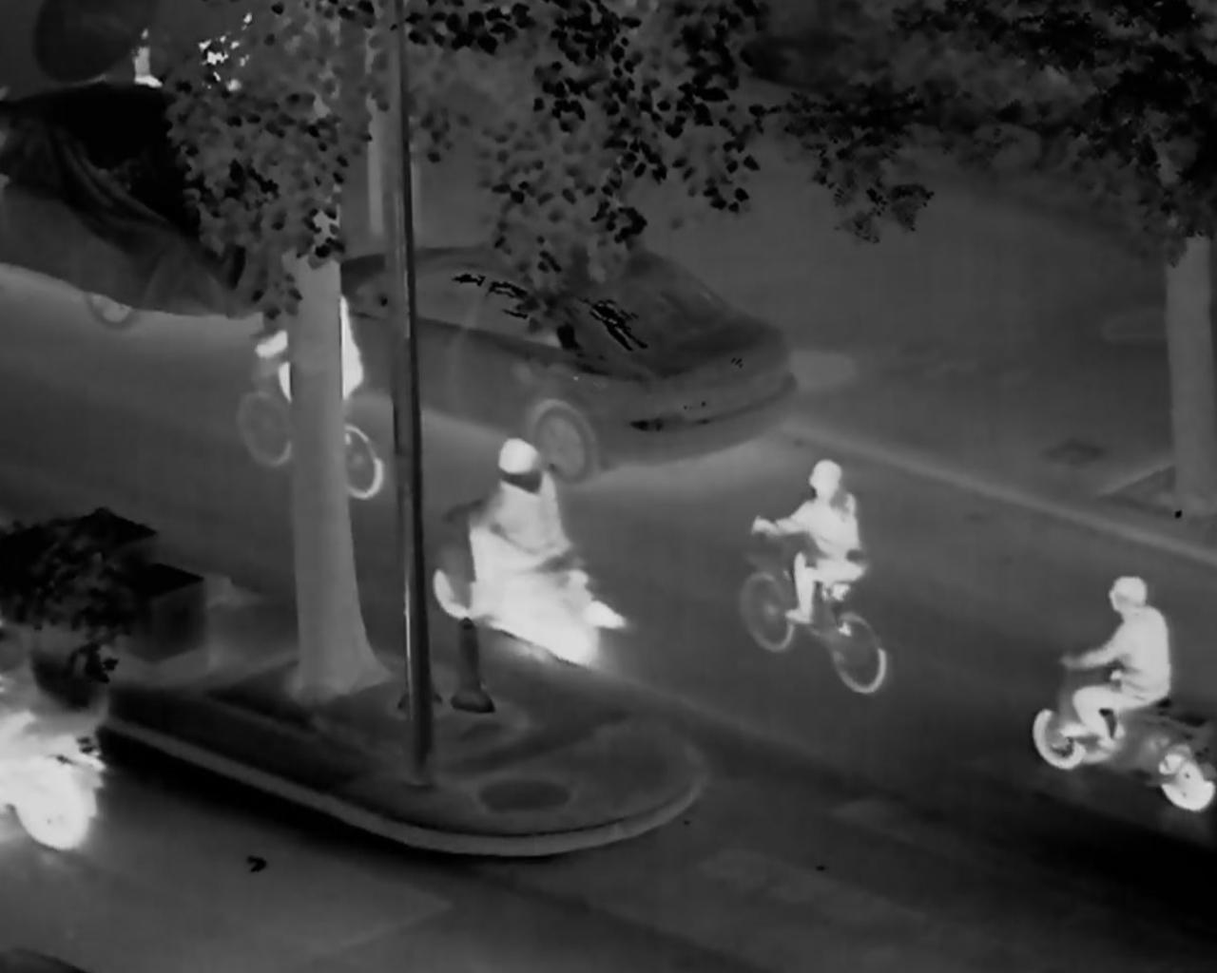person: (444, 434, 563, 619), (1056, 574, 1174, 754), (751, 460, 870, 624), (255, 271, 361, 440)
